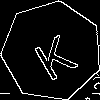K: (26, 26, 79, 82)
